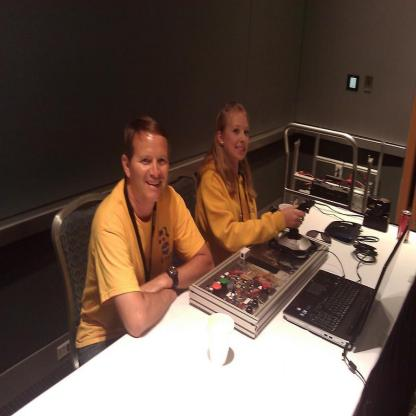board: (282, 221, 410, 347), (205, 313, 235, 366), (397, 210, 411, 243)
